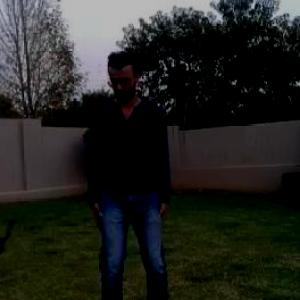follow: (84, 26, 172, 299)
